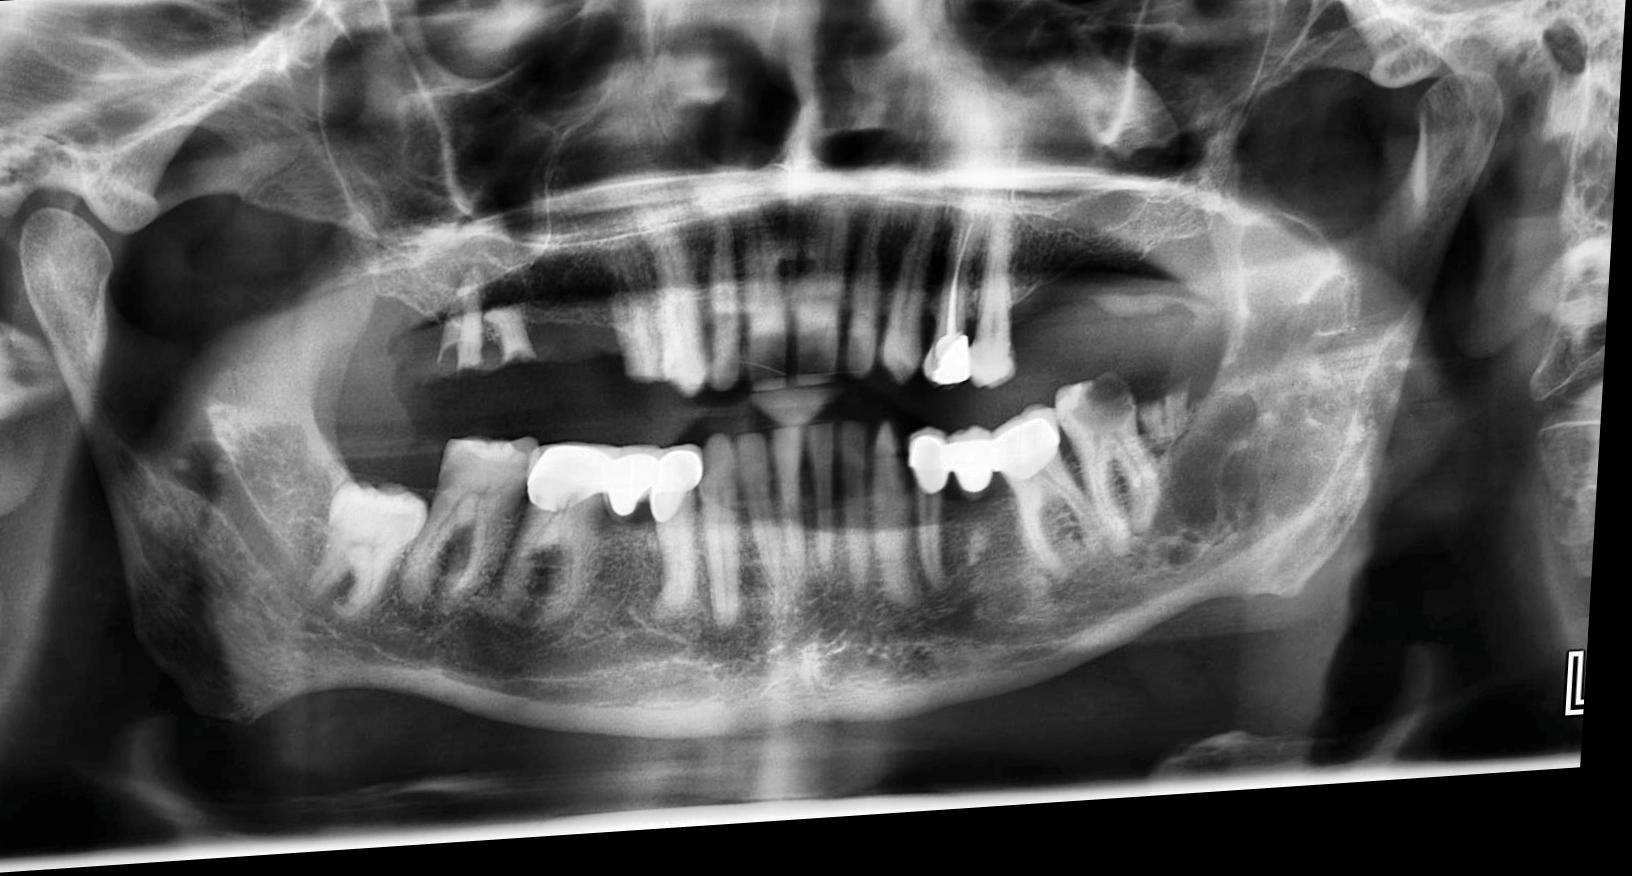keratokist: (1162, 227, 1364, 590)
